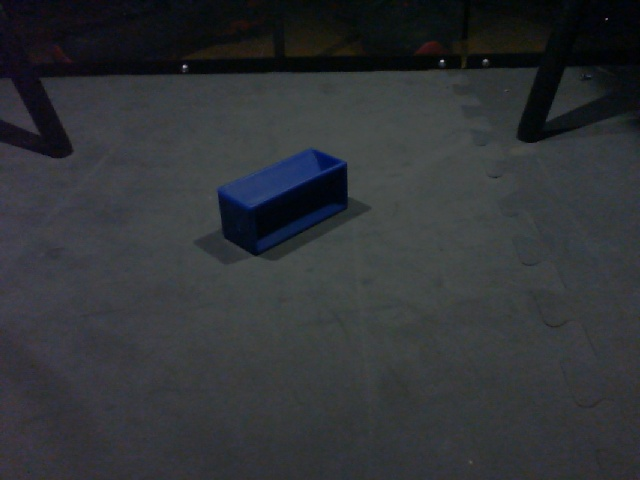BlueSample: (216, 143, 351, 267)
